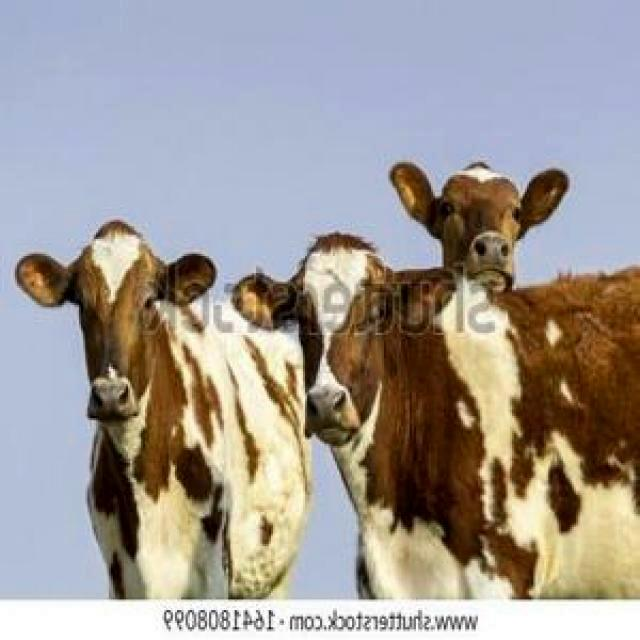COW: (235, 234, 640, 598), (16, 221, 310, 599), (390, 162, 569, 292)
